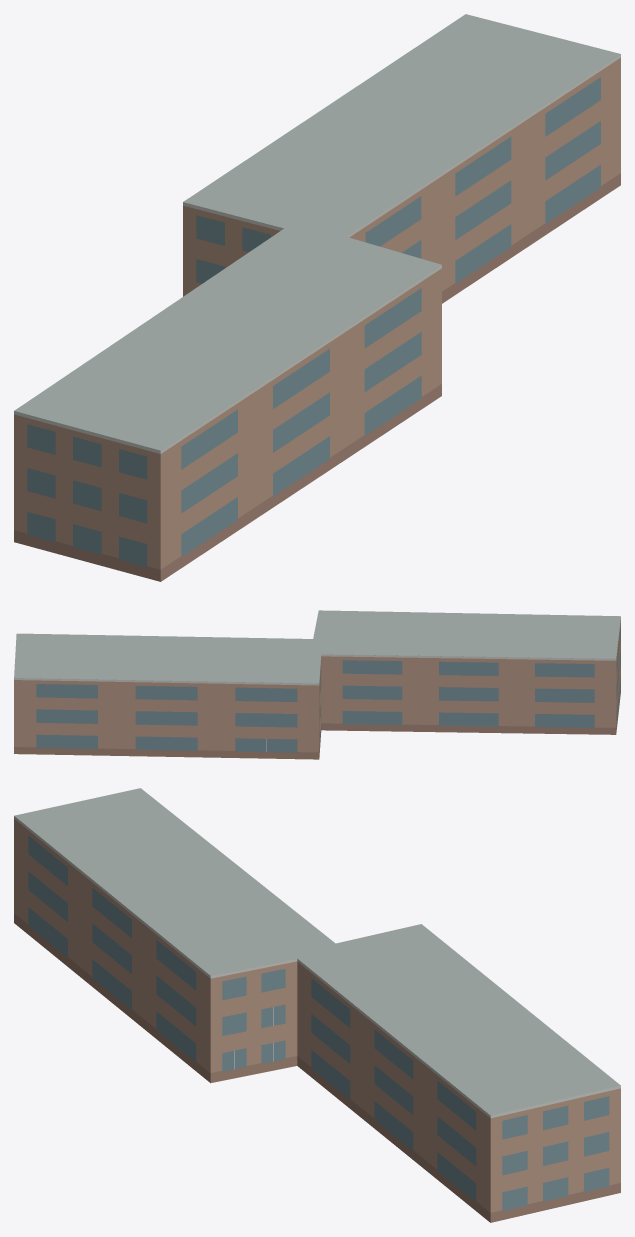
The model's file is survey-upis-32731706.glb.
The picture shows the model from 3 angles, top to bottom: view 1: azimuth 30°, elevation 25°; view 2: azimuth 150°, elevation 25°; view 3: azimuth 270°, elevation 25°; orthographic projection. The views are drawn at different scales.
Parts seen in each view (by area): view 1: survey-upis-32731706.tmp; view 2: survey-upis-32731706.tmp; view 3: survey-upis-32731706.tmp.
Boxes of the visible parts, x1,y1,x2,y2 form: survey-upis-32731706.tmp: (14, 14, 620, 581); survey-upis-32731706.tmp: (14, 610, 620, 759); survey-upis-32731706.tmp: (14, 788, 620, 1222).
Size of the model in its own units: 59.88 by 9.15 by 46.89.
